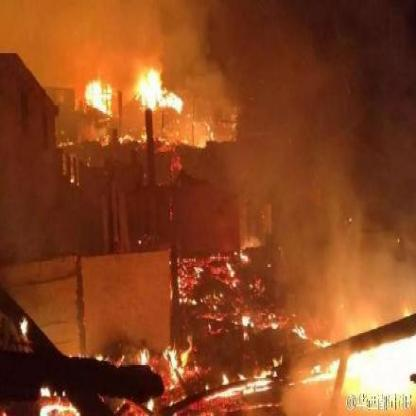fire: (178, 248, 414, 412), (91, 337, 203, 406), (79, 62, 187, 118), (37, 374, 75, 413)
smoke: (215, 0, 414, 222)
